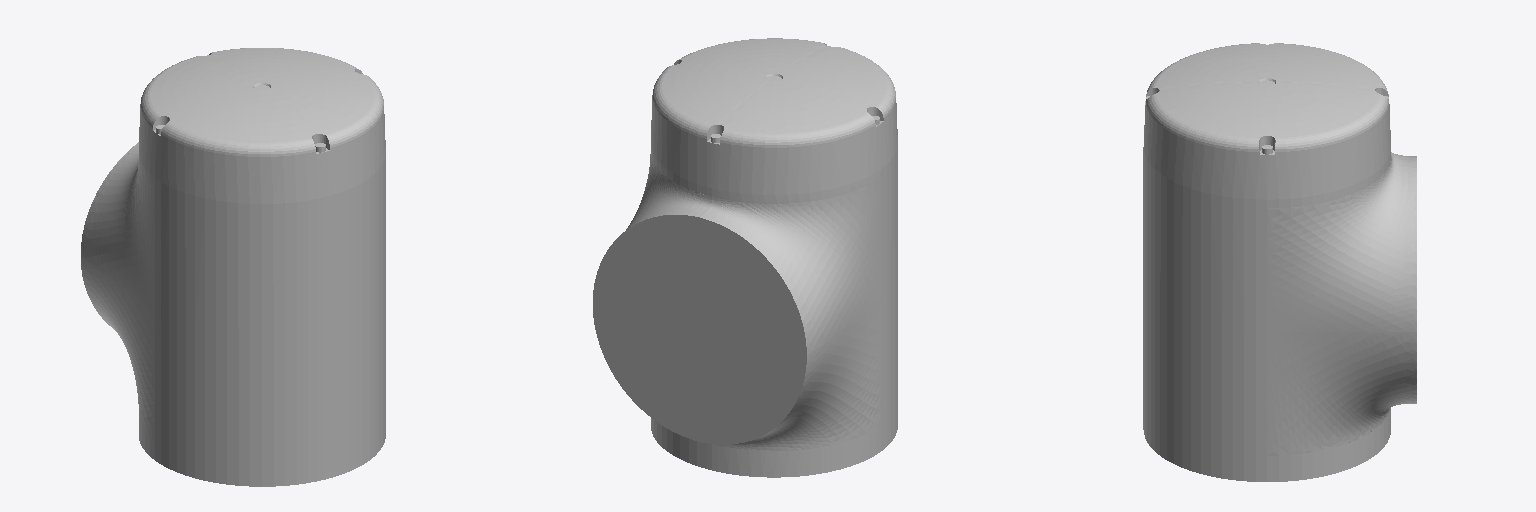
Rendered from Joint_1.obj.
3 views of the same model, side by side, from view 1: azimuth 30°, elevation 25°; view 2: azimuth 150°, elevation 25°; view 3: azimuth 270°, elevation 25° (orthographic).
Parts seen in each view (by area): view 1: Solid1; view 2: Solid1; view 3: Solid1.
Part boxes in pixels (x1,y1,x2,y2): Solid1: (81,48,385,486); Solid1: (593,38,897,477); Solid1: (1143,43,1416,481).
Size of the model in its own units: 0.1273 by 0.197 by 0.1401.